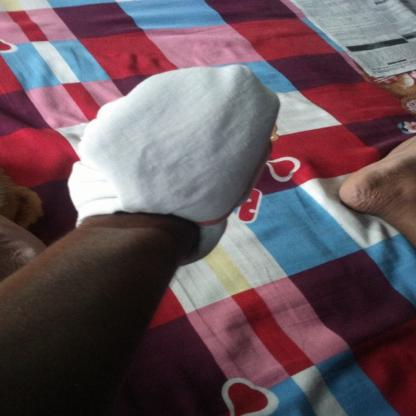gloved_hand: (56, 58, 285, 263)
